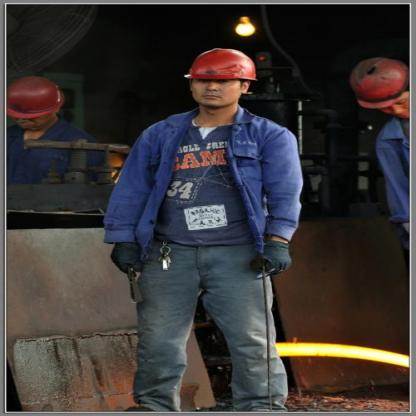helmet: (179, 45, 264, 113), (1, 71, 71, 134), (352, 54, 416, 122)
